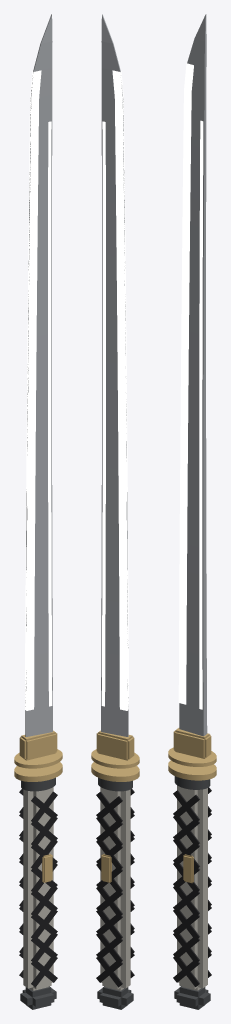
Rendered from katana_3.glb.
3 views of the same model, side by side, from view 1: azimuth 30°, elevation 25°; view 2: azimuth 150°, elevation 25°; view 3: azimuth 330°, elevation 25° (orthographic).
Parts seen in each view (by area): view 1: katana_3_steel, katana_3_glow, katana_3_skin, katana_3_wrap, katana_3_brass, katana_3_dark_steel; view 2: katana_3_steel, katana_3_glow, katana_3_skin, katana_3_wrap, katana_3_brass, katana_3_dark_steel; view 3: katana_3_steel, katana_3_glow, katana_3_skin, katana_3_wrap, katana_3_brass, katana_3_dark_steel.
Boxes of the visible parts, box(x1,y1,x2,y2) form: katana_3_steel: box(25, 14, 52, 736); katana_3_glow: box(25, 70, 52, 710); katana_3_skin: box(23, 787, 53, 990); katana_3_wrap: box(19, 789, 57, 987); katana_3_brass: box(14, 730, 62, 882); katana_3_dark_steel: box(20, 777, 56, 1009); katana_3_steel: box(101, 14, 128, 736); katana_3_glow: box(101, 70, 128, 710); katana_3_skin: box(100, 787, 130, 990); katana_3_wrap: box(96, 789, 134, 987); katana_3_brass: box(91, 730, 139, 882); katana_3_dark_steel: box(97, 777, 133, 1009); katana_3_steel: box(179, 14, 207, 736); katana_3_glow: box(178, 63, 203, 709); katana_3_skin: box(177, 785, 207, 990); katana_3_wrap: box(173, 787, 211, 986); katana_3_brass: box(168, 728, 216, 883); katana_3_dark_steel: box(174, 776, 210, 1009).
Size of the model in its own units: 0.052 by 1.1 by 0.039.
